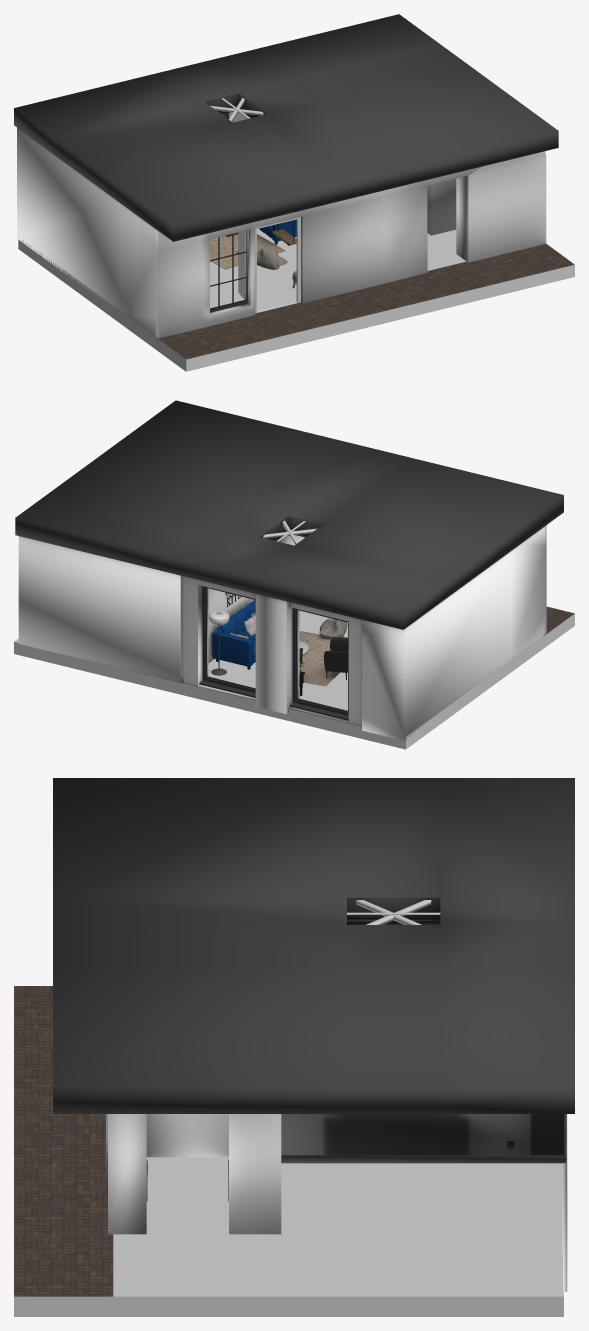
The picture shows the model from 3 angles, top to bottom: view 1: azimuth 30°, elevation 25°; view 2: azimuth 150°, elevation 25°; view 3: azimuth 270°, elevation 25°; orthographic projection. The views are drawn at different scales.
Visible parts, largest first — view 1: SM_ceiling, SM_wall, SM_floor_exterior, SM_floor_trim.001, SM_floor_trim, SM_carpet, SM_door_frame, SM_window_frames_001, SM_door, SM_cushions; view 2: SM_ceiling, SM_wall, SM_floor_trim.001, SM_floor_trim, SM_window_frames, SM_sofa_long, SM_carpet, SM_arm_chair_001, SM_cushions, SM_lamp_standing; view 3: SM_ceiling, SM_floor_trim, SM_wall, SM_floor_exterior, SM_floor_trim.001, SM_ceiling_structure.
Boxes of the visible parts, x1,y1,x2,y2 form: SM_ceiling: (14,14,558,241); SM_wall: (17,112,546,341); SM_floor_exterior: (158,243,574,359); SM_floor_trim.001: (18,238,574,371); SM_floor_trim: (210,229,466,310); SM_carpet: (210,234,285,269); SM_door_frame: (255,217,300,313); SM_window_frames_001: (210,230,247,312); SM_door: (236,230,245,299); SM_cushions: (257,248,287,269); SM_ceiling: (15,400,563,629); SM_wall: (18,525,546,740); SM_floor_trim.001: (14,613,574,749); SM_floor_trim: (14,610,347,710); SM_window_frames: (199,586,348,720); SM_sofa_long: (212,600,255,669); SM_carpet: (299,631,339,686); SM_arm_chair_001: (323,637,347,680); SM_cushions: (230,613,347,638); SM_lamp_standing: (209,610,229,675); SM_ceiling: (53,778,574,1113); SM_floor_trim: (113,1157,563,1296); SM_wall: (106,1114,567,1291); SM_floor_exterior: (14,986,113,1296); SM_floor_trim.001: (14,1296,563,1316); SM_ceiling_structure: (347,900,440,924).
Size of what is drawn, in the model's own units: 9.99 by 3.36 by 7.52.
